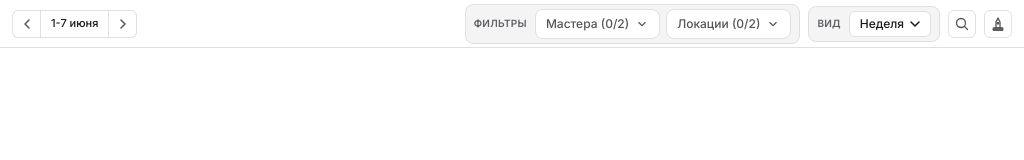
Scenario: Topbar › dropdown opens with three options, active marked per current view
Click the button with test id "view-selector".
click(890, 24)  # box [849,10,931,36]
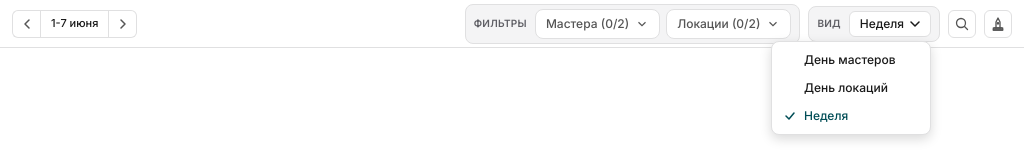
Expected: the menu with test id "view-mode-menu" is shown, [771,40,931,134]
Expected: the menu item with test id "view-masters" reads "День мастеров", [772,46,930,74]
Expected: the menu item with test id "view-locations" reads "День локаций", [772,74,930,102]
